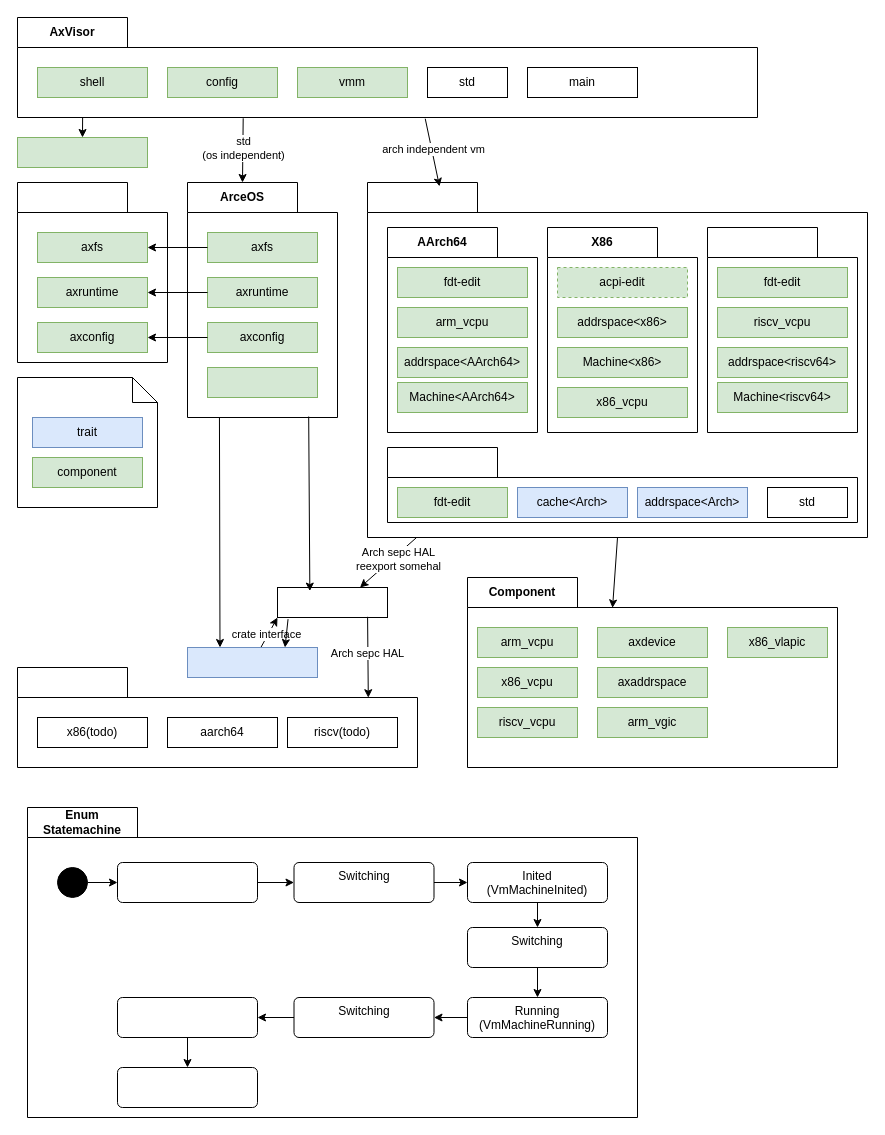
Image size: 885x1135. Some labels were removed from this diagram. The shapes that lost their labels are listed below. From the top down, each one's box as (x1, y1, x2, y2) in pixels, then its label:
(16, 136, 148, 168): axvmconfig
(16, 182, 168, 362): Patch
(706, 226, 858, 432): RsicV64
(366, 182, 868, 538): AxVm
(206, 366, 318, 398): axtask
(386, 446, 858, 522): Commen
(276, 586, 388, 618): axplat-dyn
(186, 646, 318, 678): axplat
(16, 666, 418, 768): Somehal (dyn platform)
(116, 862, 258, 902): Uninit (VmMachineUninit)
(116, 996, 258, 1038): Stopping (VmMachineStopping)
(116, 1066, 258, 1108): Stopped
